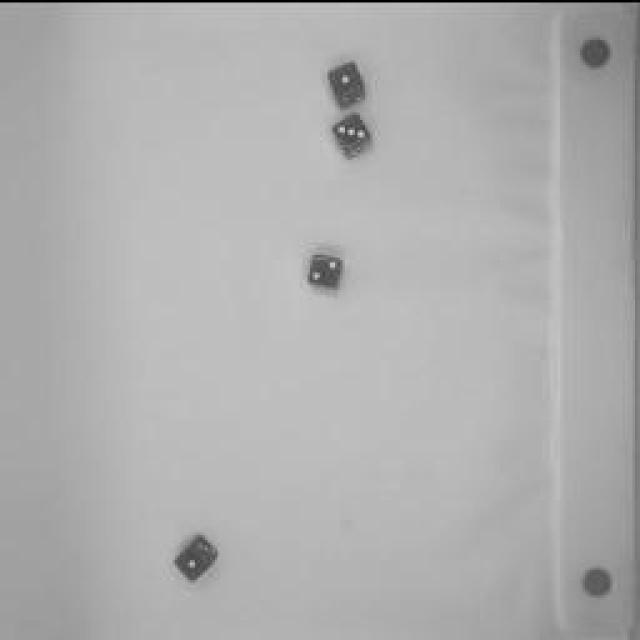dice_1: (170, 528, 225, 582), (325, 54, 370, 108)
dice_2: (302, 244, 350, 294)
dice_3: (329, 110, 379, 160)
